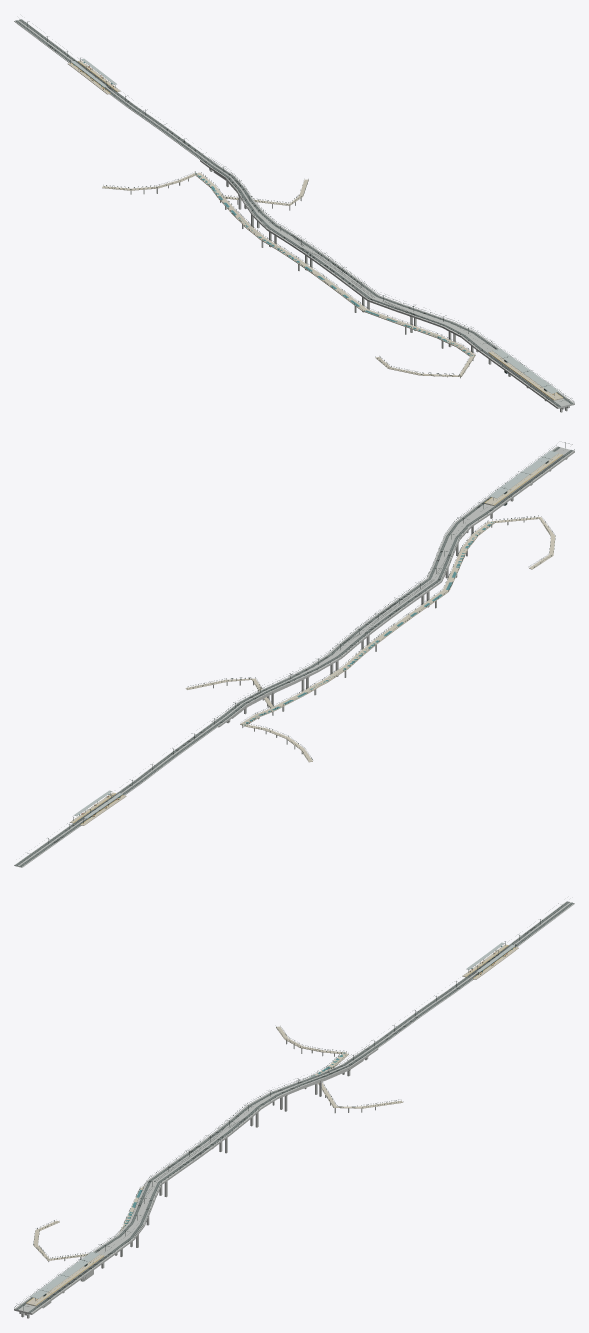
The model's file is lady-bird-rail.glb.
The picture shows the model from 3 angles, top to bottom: view 1: azimuth 30°, elevation 25°; view 2: azimuth 150°, elevation 25°; view 3: azimuth 330°, elevation 25°; orthographic projection. The views are drawn at different scales.
Visible parts, largest first — view 1: 10 _ Rail bridge and Trinity guideway - plan based__Charcoal; view 2: 10 _ Rail bridge and Trinity guideway - plan based__Charcoal; view 3: 10 _ Rail bridge and Trinity guideway - plan based__Charcoal.
Boxes of the visible parts, <box> form: 10 _ Rail bridge and Trinity guideway - plan based__Charcoal: <box>14,19,574,412</box>; 10 _ Rail bridge and Trinity guideway - plan based__Charcoal: <box>14,442,574,867</box>; 10 _ Rail bridge and Trinity guideway - plan based__Charcoal: <box>14,901,574,1318</box>.
Bounding box in the file's own units: 178 × 27.4 × 1005.
